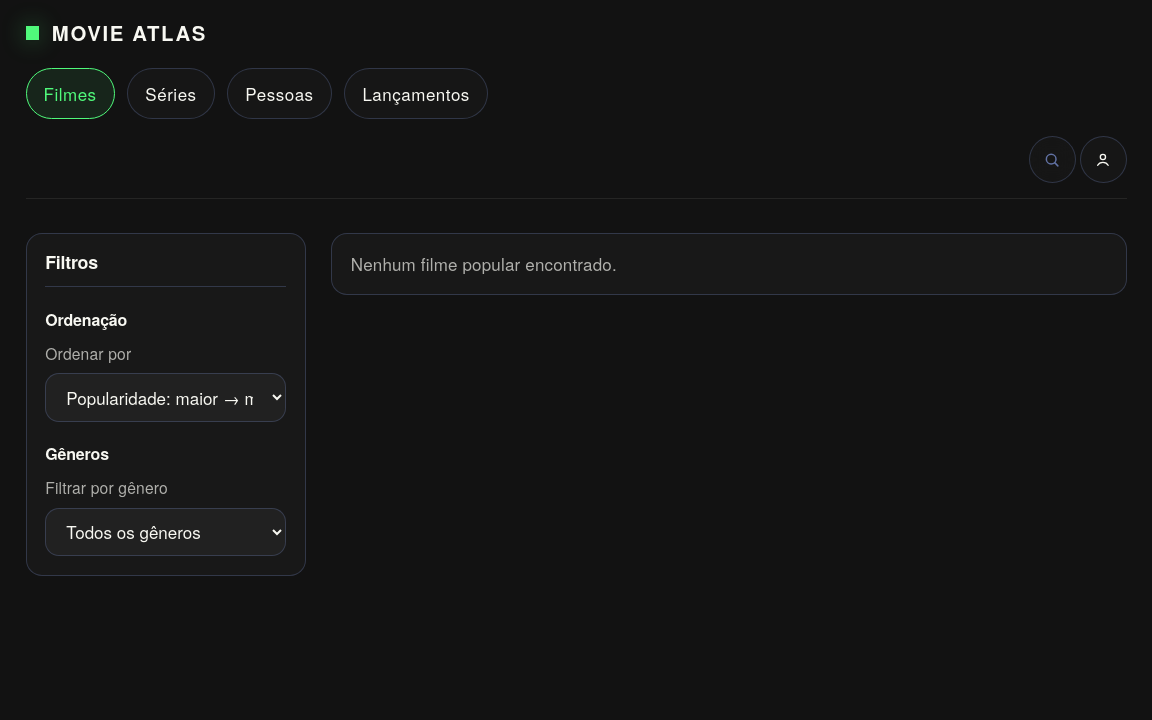
it: App routes › shows the login action when the user is not authenticated
(page scrolled)
Click the button named "entrar ou criar conta" at (1103, 160), box x1=1080 y1=136 x2=1127 y2=183
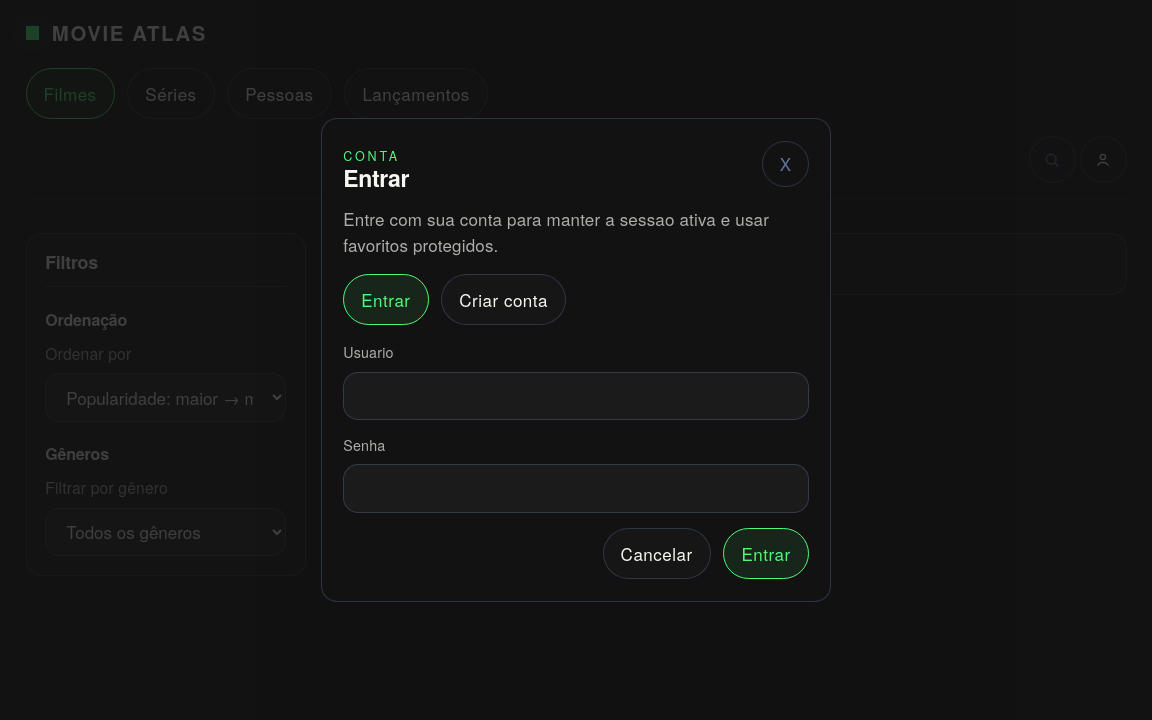
Now the dialog "Entrar" is shown
